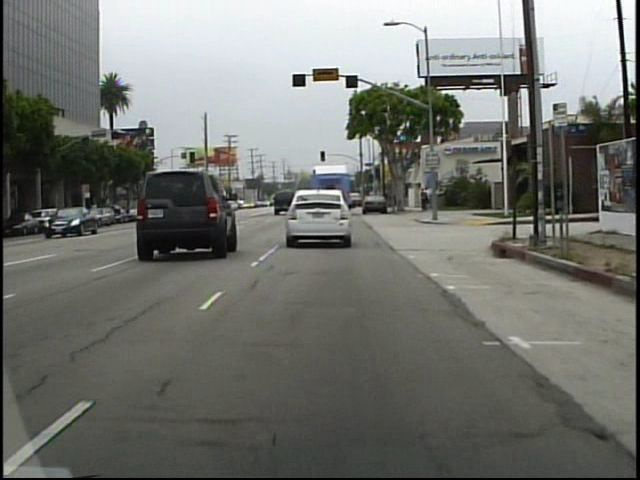person: (418, 189, 428, 214), (425, 187, 432, 213)
